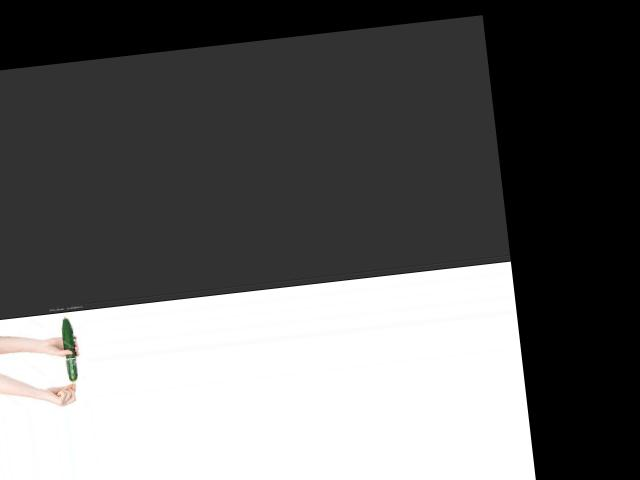cucumber: (61, 315, 79, 381)
